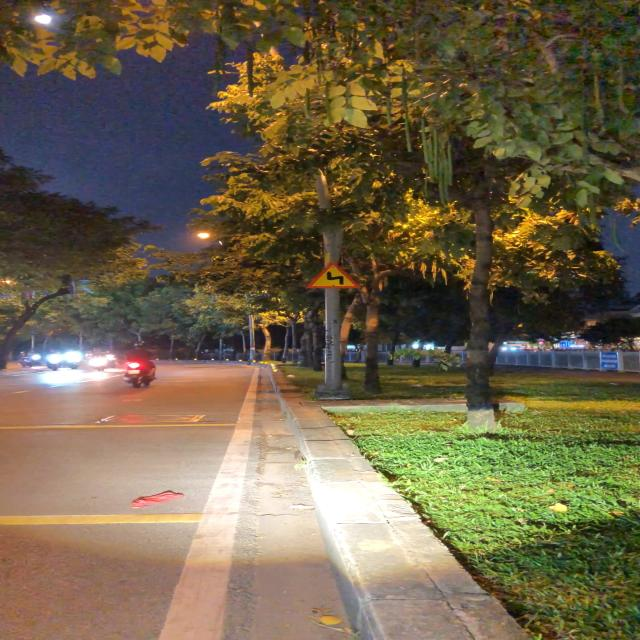Bien bao nhieu cho ngoat nguy hiem lien tiep: (304, 259, 362, 290)
